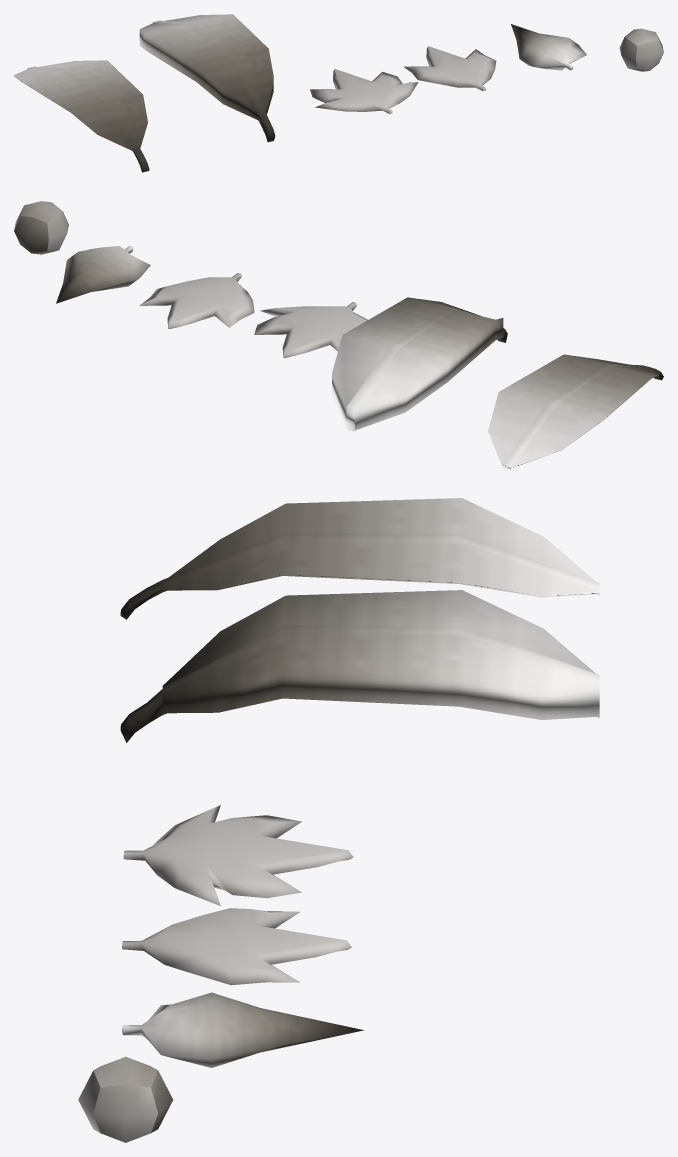
Rendered from M_Leaves_01.fbx.
The picture shows the model from 3 angles, top to bottom: view 1: azimuth 30°, elevation 25°; view 2: azimuth 150°, elevation 25°; view 3: azimuth 270°, elevation 25°; orthographic projection. The views are drawn at different scales.
Parts seen in each view (by area): view 1: M_TreeLeaf_05Palm, M_TreeLeaf_06Palm, M_TreeLeaf_04Leaf, M_TreeLeaf_03Leaf, M_TreeLeaf_02Leaf, M_TreeLeaf_01Bud; view 2: M_TreeLeaf_05Palm, M_TreeLeaf_06Palm, M_TreeLeaf_03Leaf, M_TreeLeaf_04Leaf, M_TreeLeaf_02Leaf, M_TreeLeaf_01Bud; view 3: M_TreeLeaf_05Palm, M_TreeLeaf_06Palm, M_TreeLeaf_04Leaf, M_TreeLeaf_03Leaf, M_TreeLeaf_02Leaf, M_TreeLeaf_01Bud.
Boxes of the visible parts, box(x1,y1,x2,y2) form: M_TreeLeaf_05Palm: box(139, 14, 275, 142); M_TreeLeaf_06Palm: box(14, 60, 149, 172); M_TreeLeaf_04Leaf: box(310, 69, 418, 113); M_TreeLeaf_03Leaf: box(403, 46, 496, 90); M_TreeLeaf_02Leaf: box(511, 24, 586, 70); M_TreeLeaf_01Bud: box(619, 28, 663, 71); M_TreeLeaf_05Palm: box(332, 297, 507, 431); M_TreeLeaf_06Palm: box(488, 354, 663, 469); M_TreeLeaf_03Leaf: box(139, 273, 254, 329); M_TreeLeaf_04Leaf: box(254, 302, 367, 358); M_TreeLeaf_02Leaf: box(56, 246, 150, 303); M_TreeLeaf_01Bud: box(14, 201, 68, 254); M_TreeLeaf_05Palm: box(120, 590, 599, 742); M_TreeLeaf_06Palm: box(120, 498, 599, 619); M_TreeLeaf_04Leaf: box(123, 805, 353, 906); M_TreeLeaf_03Leaf: box(122, 908, 351, 985); M_TreeLeaf_02Leaf: box(122, 992, 363, 1067); M_TreeLeaf_01Bud: box(78, 1056, 173, 1142).
Size of the model in its own units: 456 by 60.2 by 185.
